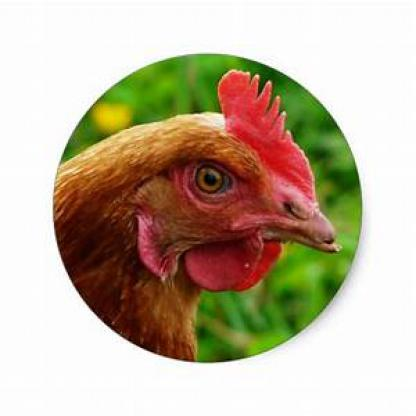chicken: (56, 70, 346, 361)
